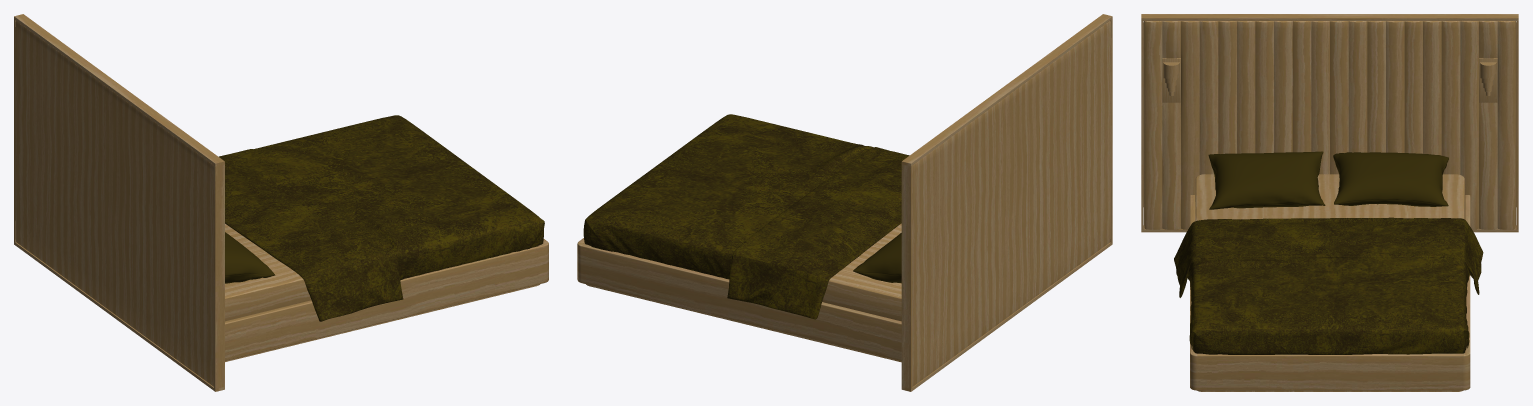
File: Project Name.gltf
3 renders of one model, left to right at view 1: azimuth 30°, elevation 25°; view 2: azimuth 150°, elevation 25°; view 3: azimuth 270°, elevation 25°, orthographic. The views are drawn at different scales.
Visible parts, largest first — view 1: Buffer Object (×2); view 2: Buffer Object (×2); view 3: Buffer Object (×2).
Part boxes in pixels (x1,y1,x2,y2): Buffer Object (×2): (14, 14, 548, 391); Buffer Object (×2): (577, 14, 1112, 391); Buffer Object (×2): (1141, 14, 1518, 391).
Size of the model in its own units: 0.00817 by 0.00494 by 0.00787.
2 materials, 2 textured.
